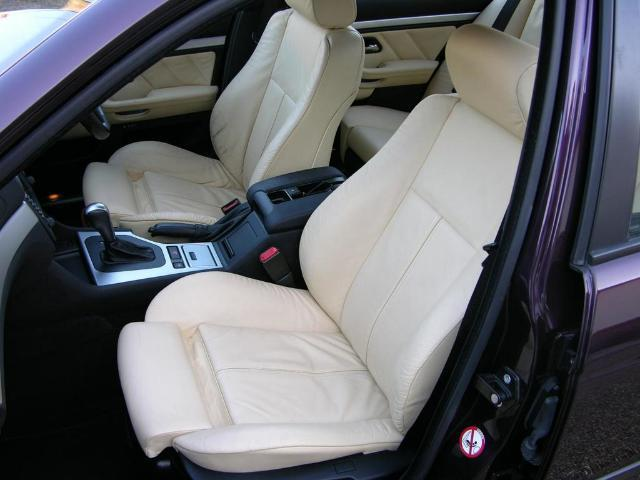Seatbelt: (425, 0, 513, 98)
